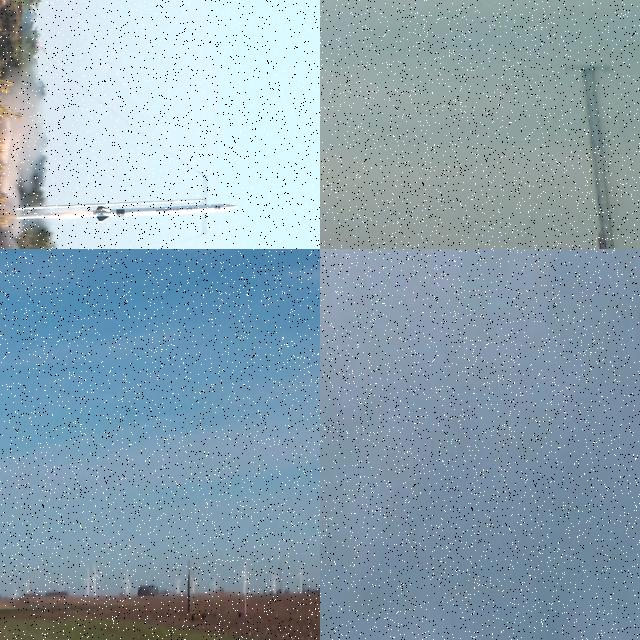Rocket: (93, 203, 237, 222), (597, 232, 618, 249), (187, 574, 190, 612)
